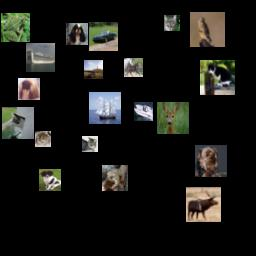airplane: (84, 60, 103, 79)
automobile: (89, 22, 118, 51)
bird: (190, 12, 225, 47)
cat: (200, 60, 235, 95), (2, 107, 34, 139), (82, 136, 98, 152), (164, 15, 180, 31)
deer: (186, 187, 221, 222), (157, 102, 189, 134)
dog: (195, 145, 227, 177), (66, 23, 88, 45), (18, 78, 40, 100), (39, 169, 61, 191)
frog: (1, 13, 30, 42), (102, 165, 128, 191), (35, 131, 51, 147)
ship: (89, 92, 121, 124), (26, 43, 55, 72), (134, 102, 153, 121)
